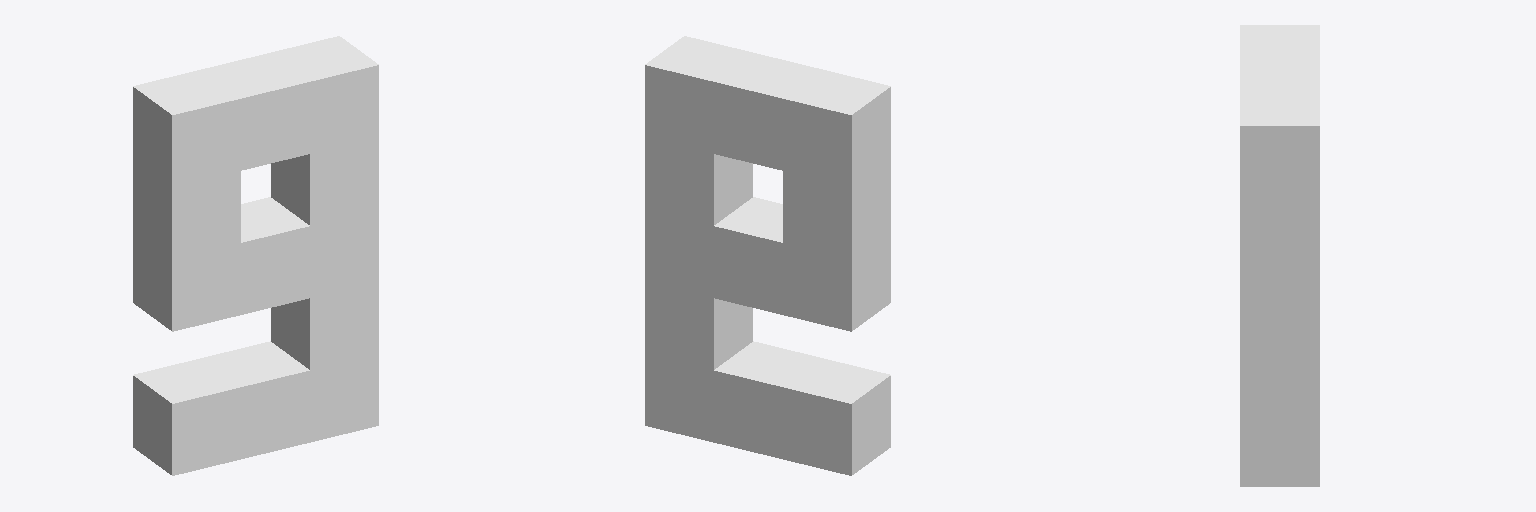
Rendered from digit_9_r.obj.
3 renders of one model, left to right at view 1: azimuth 30°, elevation 25°; view 2: azimuth 150°, elevation 25°; view 3: azimuth 270°, elevation 25°, orthographic.
Visible parts, largest first — view 1: object 1; view 2: object 1; view 3: object 1.
Boxes of the visible parts, <box> form: object 1: <box>133,36,378,475</box>; object 1: <box>645,36,890,475</box>; object 1: <box>1240,25,1319,486</box>.
Size of the model in its own units: 0.6 by 1 by 0.2.